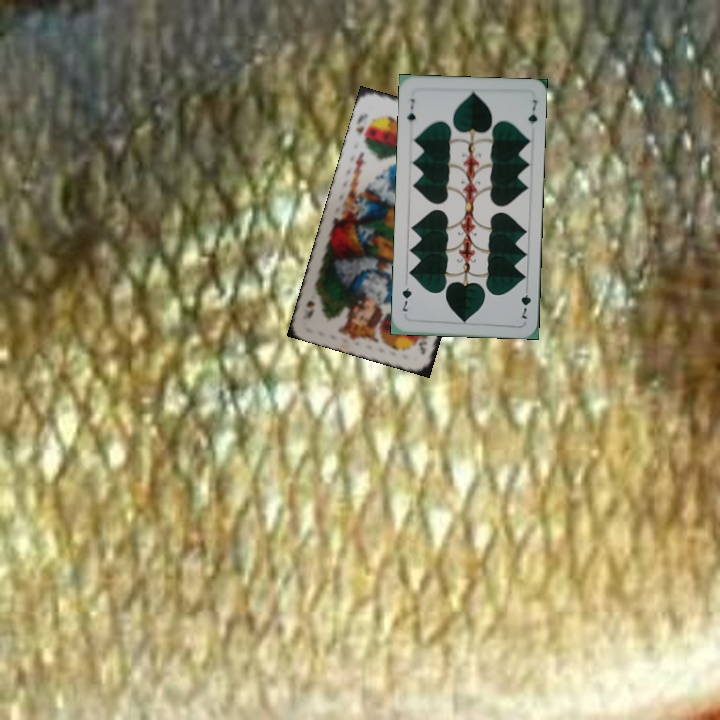G7: (517, 282, 533, 321), (403, 95, 418, 125)
SK: (352, 109, 371, 137), (414, 329, 430, 357)
